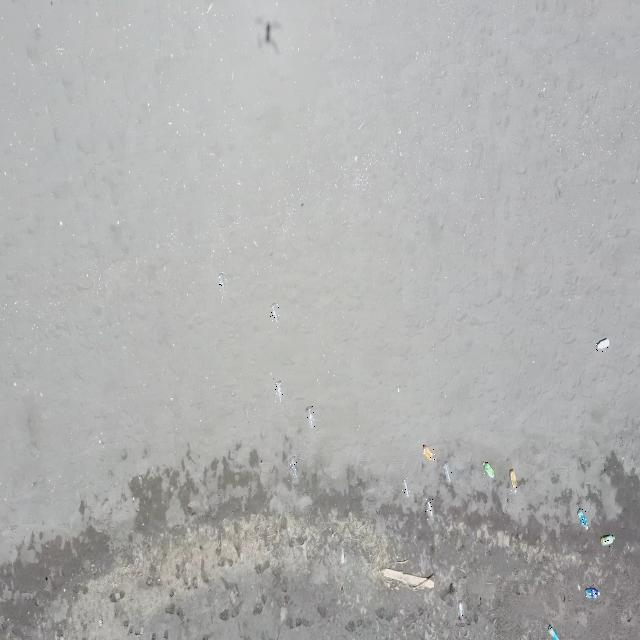plastic-bottle: (596, 336, 611, 352), (424, 444, 436, 463), (578, 508, 588, 530), (548, 625, 561, 640), (483, 462, 495, 478), (600, 536, 615, 548), (586, 588, 600, 600)
takeaway-cup: (305, 406, 315, 430), (425, 498, 435, 520), (290, 454, 298, 479), (443, 462, 452, 484), (275, 380, 284, 402), (270, 302, 279, 323), (458, 600, 466, 623), (218, 271, 226, 293), (510, 470, 517, 493), (402, 478, 410, 498)
